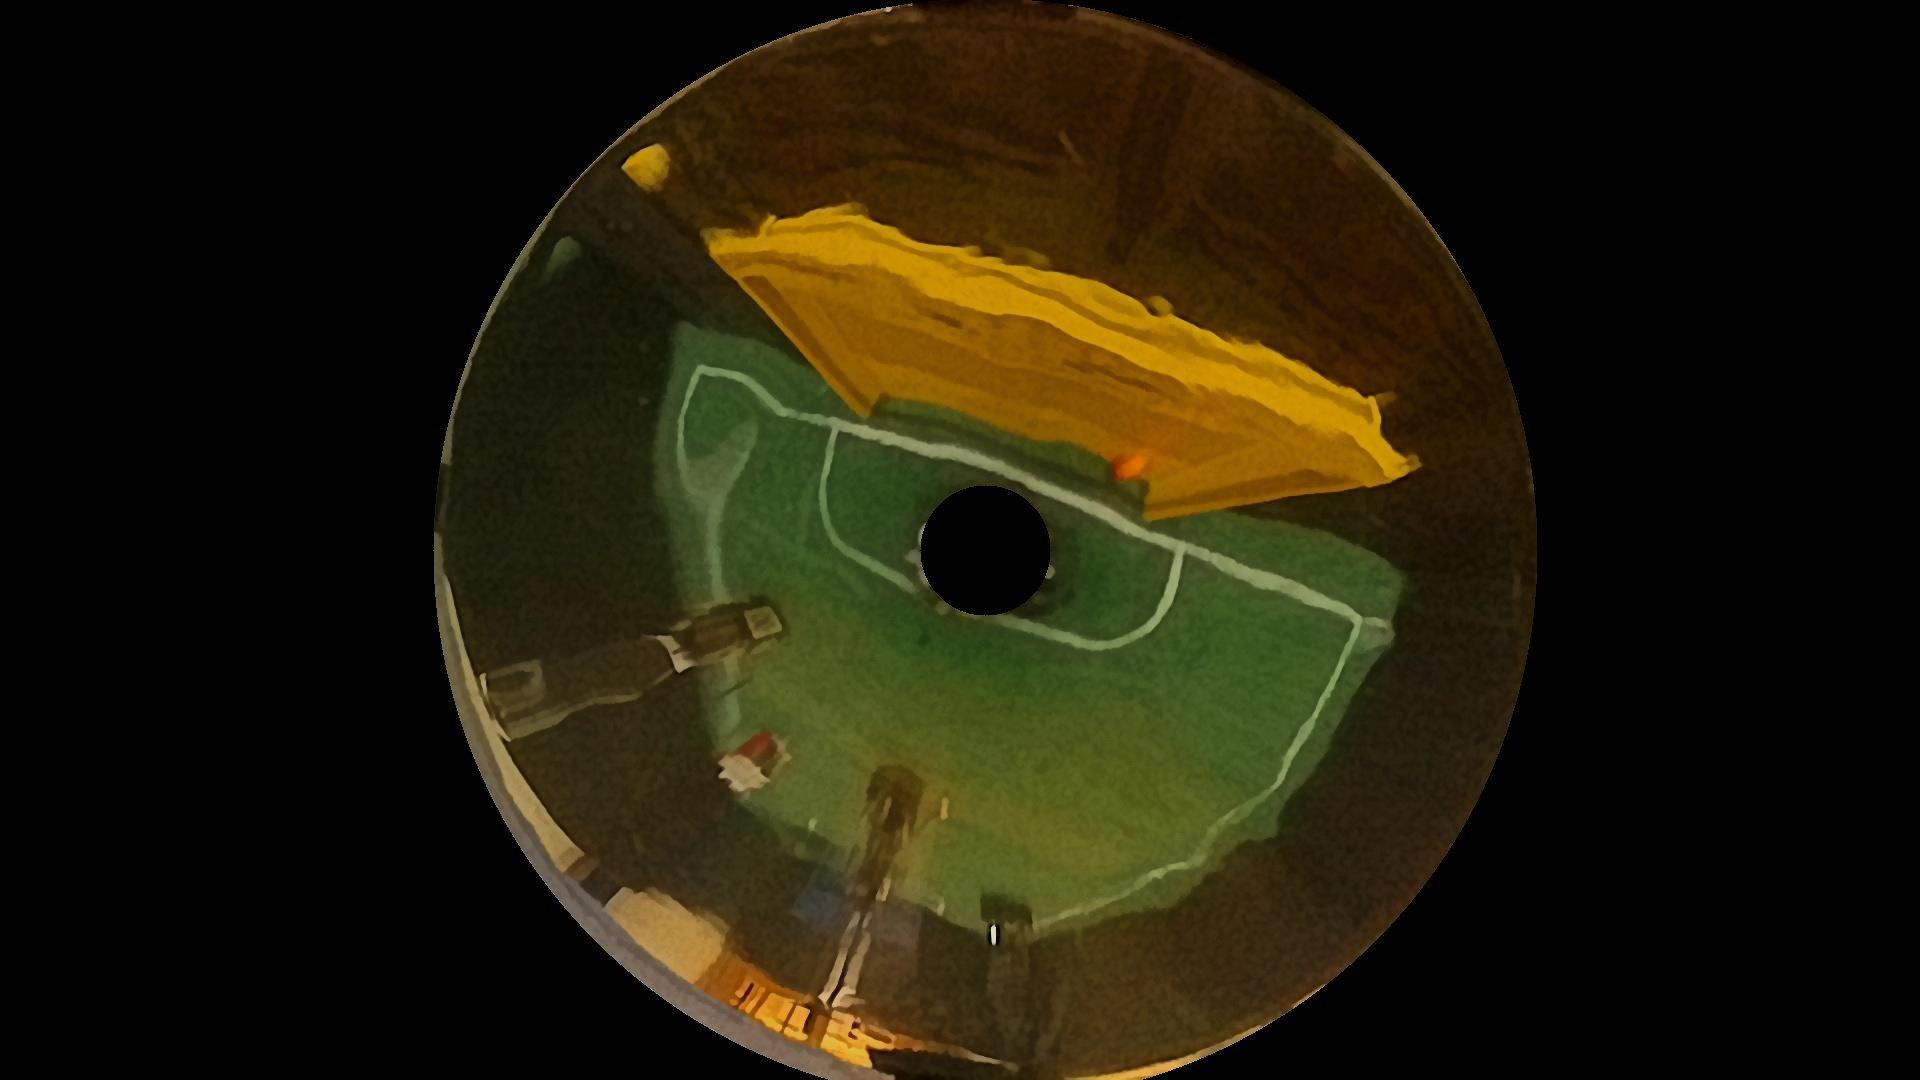ball: (1095, 444, 1168, 492)
blue-goal: (800, 862, 916, 949)
robots: (484, 592, 770, 717), (820, 754, 914, 1010), (712, 732, 798, 794)
yellow-goal: (723, 204, 1396, 498)
